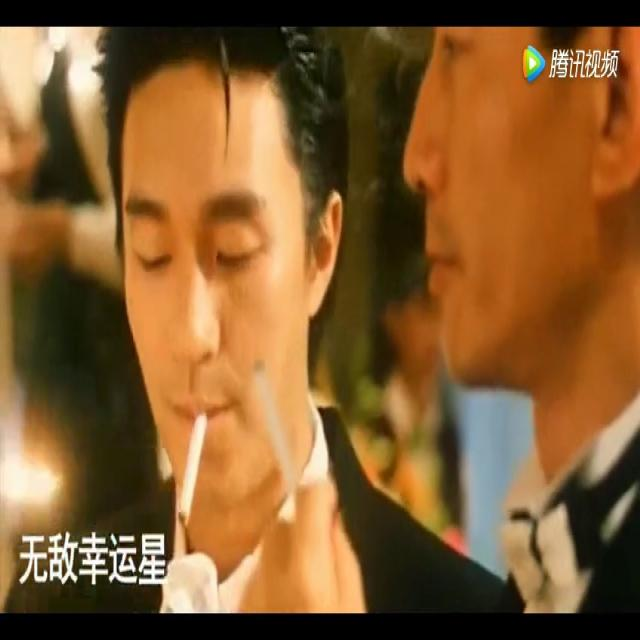smoking: (178, 410, 205, 524)
